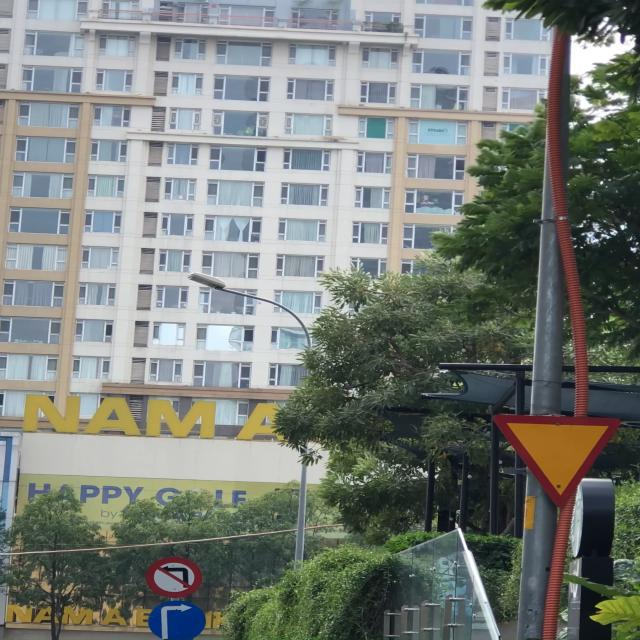Bien bao cam re trai: (144, 554, 210, 599)
Bien bao giao nhau voi duong uu tien: (486, 406, 632, 512)
Bien bao huong di phai theo: (145, 597, 211, 640)
